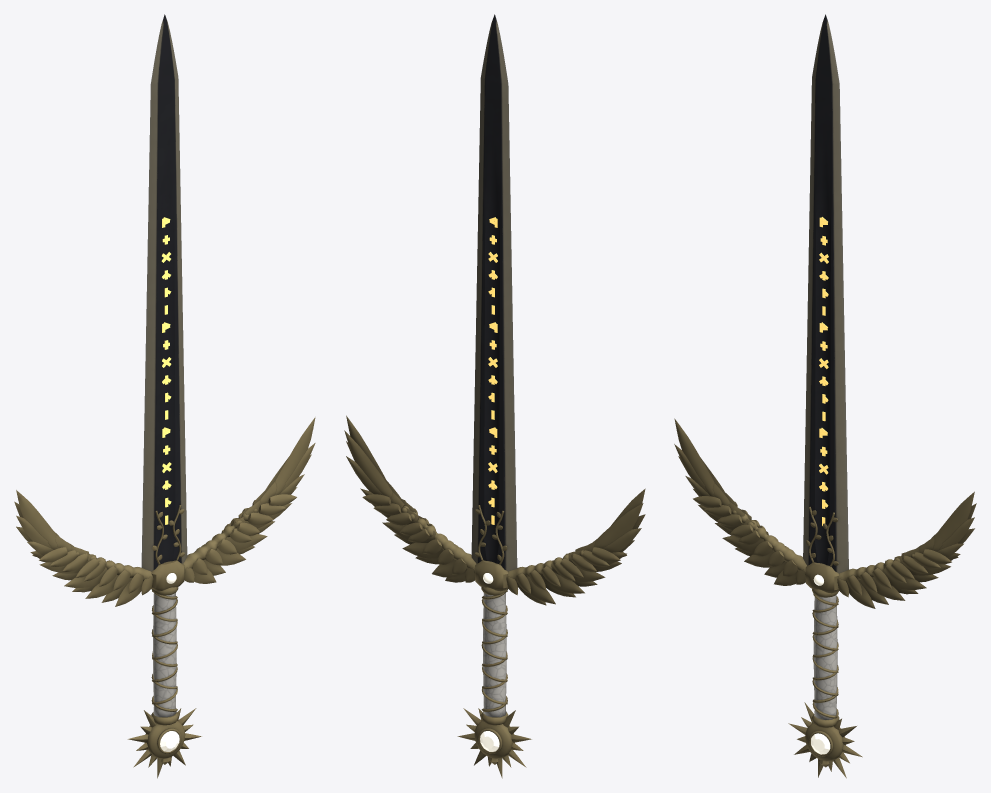
File: named-holy-avenger.glb
3 views of the same model, side by side, from view 1: azimuth 30°, elevation 25°; view 2: azimuth 150°, elevation 25°; view 3: azimuth 330°, elevation 25° (orthographic).
Parts seen in each view (by area): view 1: named-holy-avenger; view 2: named-holy-avenger; view 3: named-holy-avenger.
Boxes of the visible parts, bbox=[...] form: named-holy-avenger: bbox=[14, 14, 315, 778]; named-holy-avenger: bbox=[344, 14, 645, 778]; named-holy-avenger: bbox=[674, 14, 976, 778].
Size of the model in its own units: 1.04 by 2.53 by 0.104.
1 material, 1 textured.
